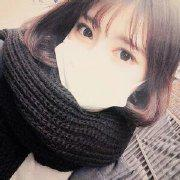OK: (52, 17, 148, 113)
